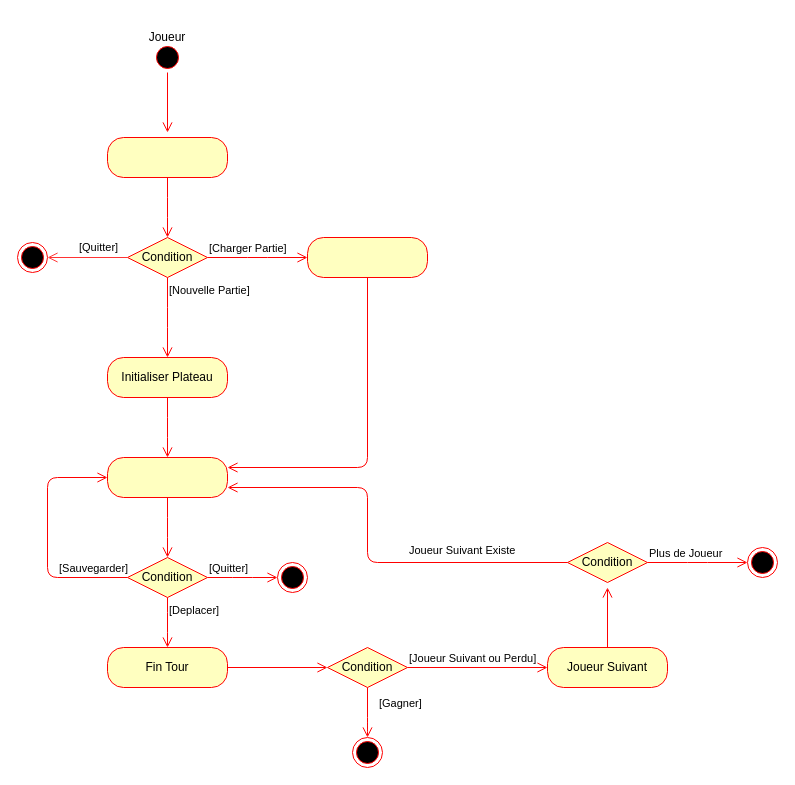
The diagram is 795 pixels wide and 785 high, and some of its shapes have lost their labels. The shapes that lost their labels are listed below. From the top down, each one's centre as x and y in pixels, then its label:
At (x=167, y=157): "Activity".
At (x=367, y=257): "Charger Plateau".
At (x=167, y=477): "Tour".
